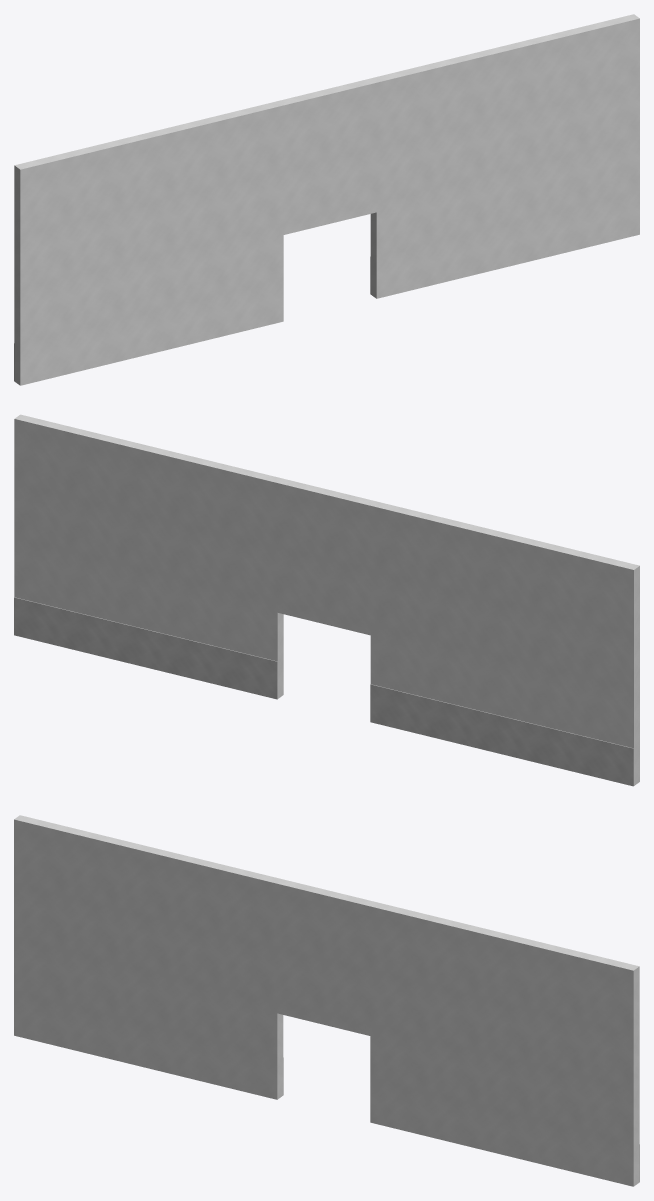
Rendered from front_wall.glb.
The picture shows the model from 3 angles, top to bottom: view 1: azimuth 30°, elevation 25°; view 2: azimuth 150°, elevation 25°; view 3: azimuth 330°, elevation 25°; orthographic projection.
Visible parts, largest first — view 1: front_wall_Plaster; view 2: front_wall_Plaster, front_wall_Teal; view 3: front_wall_Plaster.
Part boxes in pixels (x1,y1,x2,y2): front_wall_Plaster: [14, 14, 639, 385]; front_wall_Plaster: [14, 414, 639, 785]; front_wall_Teal: [14, 597, 633, 786]; front_wall_Plaster: [14, 815, 639, 1186].
Size of the model in its own units: 24 by 8 by 0.4275.
2 materials, 2 textured.
